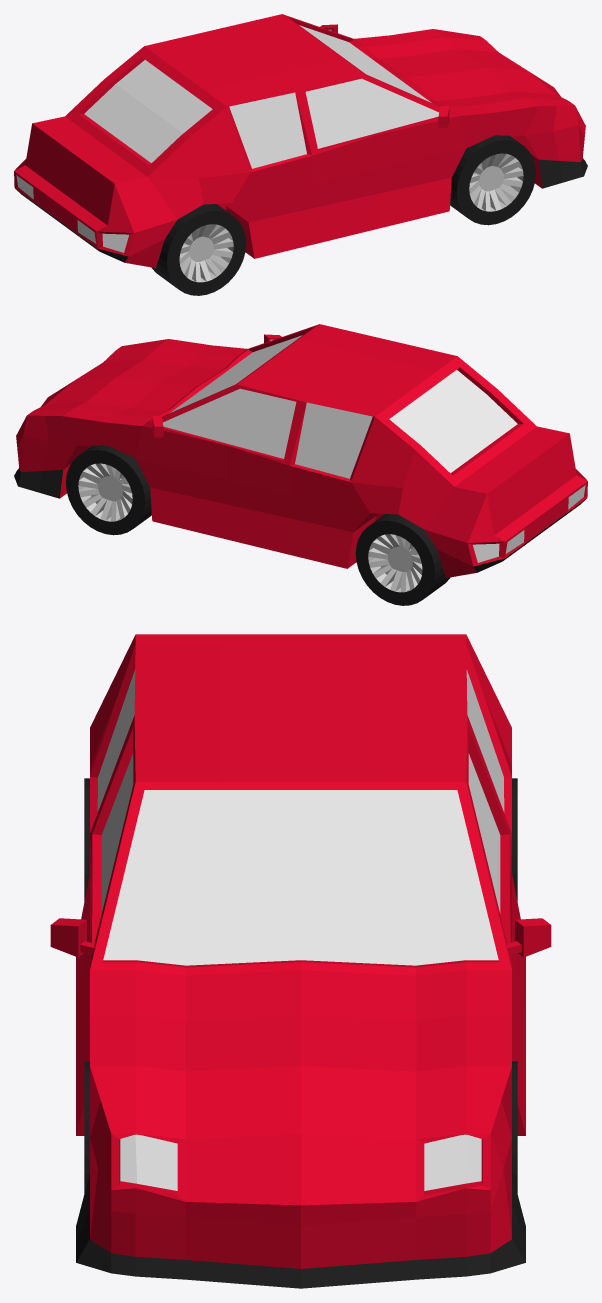
File: car.fbx
The picture shows the model from 3 angles, top to bottom: view 1: azimuth 30°, elevation 25°; view 2: azimuth 150°, elevation 25°; view 3: azimuth 270°, elevation 25°; orthographic projection. The views are drawn at different scales.
Parts seen in each view (by area): view 1: Cube; view 2: Cube; view 3: Cube.
Part boxes in pixels (box(x1,y1,x2,y2)): Cube: box(14, 14, 587, 295); Cube: box(14, 324, 587, 605); Cube: box(50, 634, 551, 1288).
Bounding box in the file's own units: 412 × 134 × 178.
